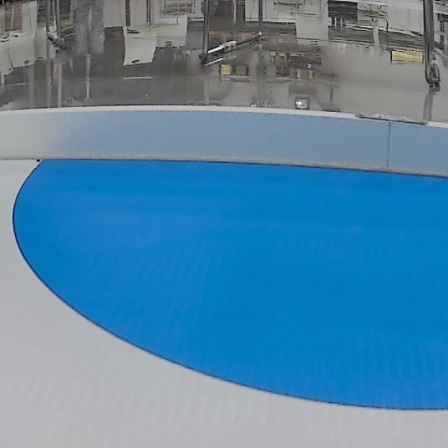blue_base: (12, 157, 445, 412)
